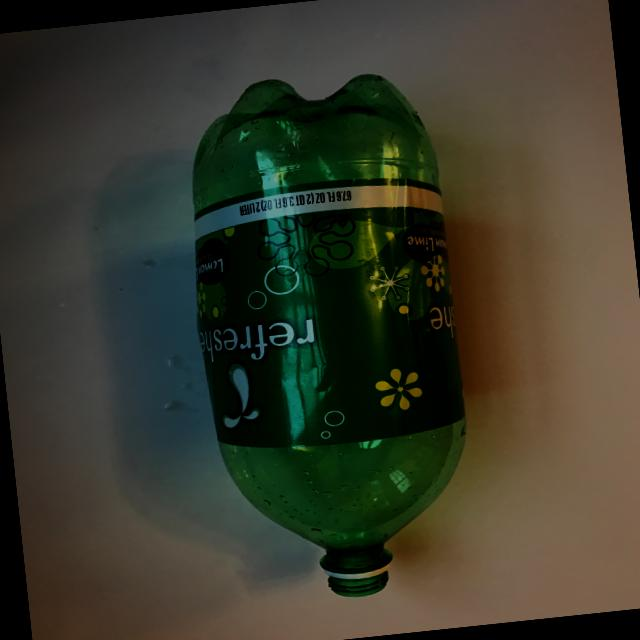Plastic: (142, 40, 522, 625)
